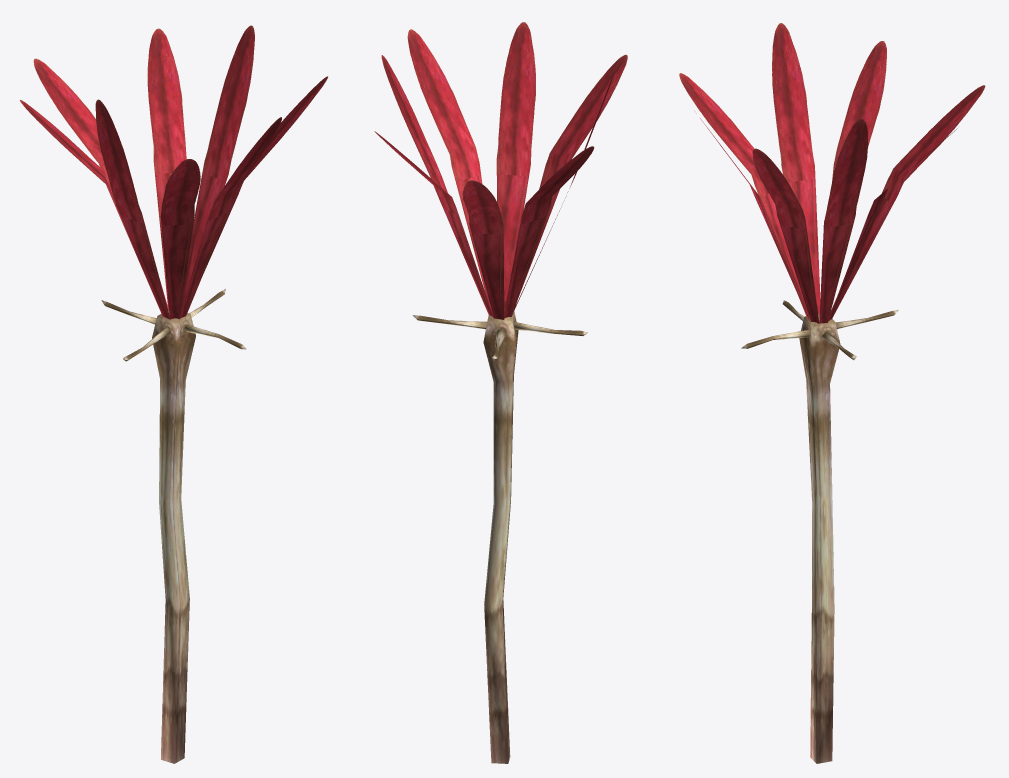
File: flow_tatt_funnel_lrg_l0.fbx
3 renders of one model, left to right at view 1: azimuth 30°, elevation 25°; view 2: azimuth 150°, elevation 25°; view 3: azimuth 270°, elevation 25°, orthographic.
Visible parts, largest first — view 1: mesh_node; view 2: mesh_node; view 3: mesh_node.
Boxes of the visible parts, left/top/right/bottom form: mesh_node: left=20, top=25, right=327, bottom=763; mesh_node: left=374, top=22, right=627, bottom=763; mesh_node: left=679, top=23, right=985, bottom=763.
Bounding box in the file's own units: 0.5658 × 1.43 × 0.6093.
